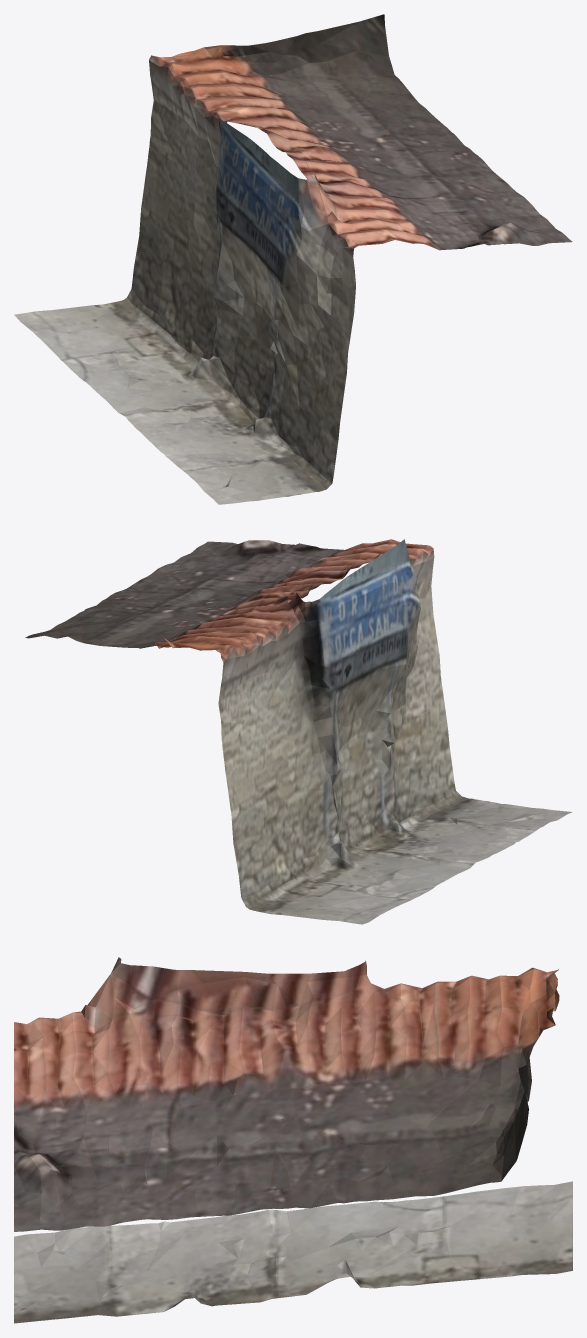
3 views of the same model, one above another, from view 1: azimuth 30°, elevation 25°; view 2: azimuth 150°, elevation 25°; view 3: azimuth 270°, elevation 25° (orthographic). The views are drawn at different scales.
Size of the model in its own units: 3.35 by 2.51 by 3.35.
Materials: 3 (3 with a texture image).
